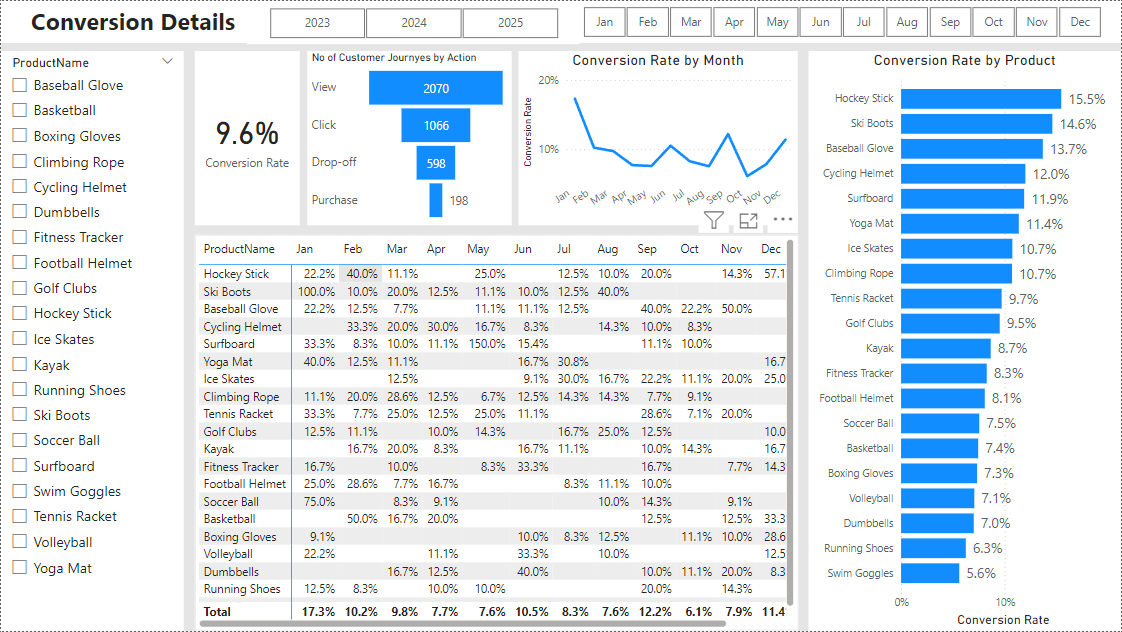

The page's visual inventory and layout, read from the dashboard file:
{"tool":"powerbi","page":{"name":"Conversion Details","canvas":[1280,720],"ordinal":1},"visuals":[{"type":"textbox","box":[0,0,1280.3,47.7],"z":0},{"type":"slicer","fields":{"Values":["dim_products.ProductName"]},"box":[0,57.5,209.1,662.8],"z":1000},{"type":"card","fields":{"Values":["Calculations.Conversion Rate"]},"box":[221.3,57.5,119.8,199.3],"z":2000},{"type":"actionButton","box":[0,0,100,40],"z":3000},{"type":"slicer","fields":{"Values":["Calendar.Year"]},"box":[281.3,1.2,379.1,47.7],"z":4000},{"type":"slicer","fields":{"Values":["Calendar.MonthNameShort"]},"box":[639.5,0,640.8,47.7],"z":5000},{"type":"lineChart","title":"Conversion Rate by Month","fields":{"Y":["Calculations.Conversion Rate"],"Category":["Calendar.MonthNameShort"]},"box":[591.9,57.5,319.2,199.3],"z":6000},{"type":"clusteredBarChart","title":"Conversion Rate by Product","fields":{"Category":["dim_products.ProductName"],"Y":["Calculations.Conversion Rate"]},"box":[923.2,57.5,357.1,662.8],"z":7000},{"type":"pivotTable","fields":{"Values":["Calculations.Conversion Rate"],"Rows":["dim_products.ProductName"],"Columns":["Calendar.MonthNameShort"]},"box":[221.3,266.6,689.7,453.7],"z":8000},{"type":"funnel","fields":{"Y":["Calculations.No of Customer Journyes"],"Category":["fact_customer_journey.Action"]},"box":[349.7,57.5,233.6,199.3],"z":9000}]}

Visuals, with their boxes in screenshot pixels (x1, y1, x2, y2), scaled from the page's 1280x720 canvas onto the 1122x632 screenshot:
textbox: select_region(0, 0, 1121, 42)
slicer - dim_products.ProductName: select_region(0, 50, 183, 631)
card - Calculations.Conversion Rate: select_region(194, 50, 299, 225)
actionButton: select_region(0, 0, 88, 35)
slicer - Calendar.Year: select_region(247, 1, 579, 43)
slicer - Calendar.MonthNameShort: select_region(561, 0, 1121, 42)
"Conversion Rate by Month" lineChart: select_region(519, 50, 799, 225)
"Conversion Rate by Product" clusteredBarChart: select_region(809, 50, 1121, 631)
pivotTable - Calculations.Conversion Rate x dim_products.ProductName: select_region(194, 234, 799, 631)
funnel - Calculations.No of Customer Journyes x fact_customer_journey.Action: select_region(307, 50, 511, 225)
